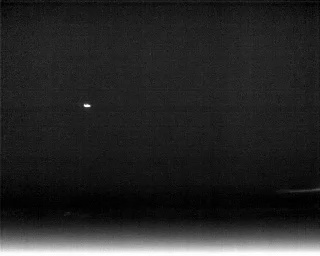AIRPLANE: (82, 101, 92, 110)
